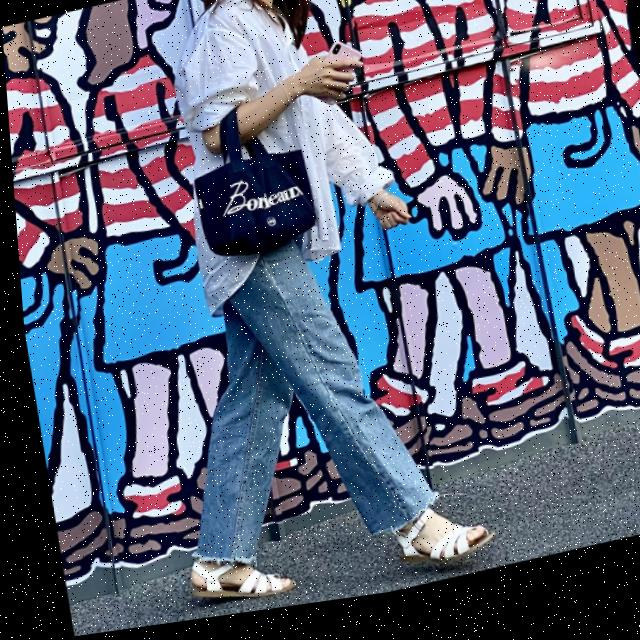ecobag: (163, 95, 324, 287)
